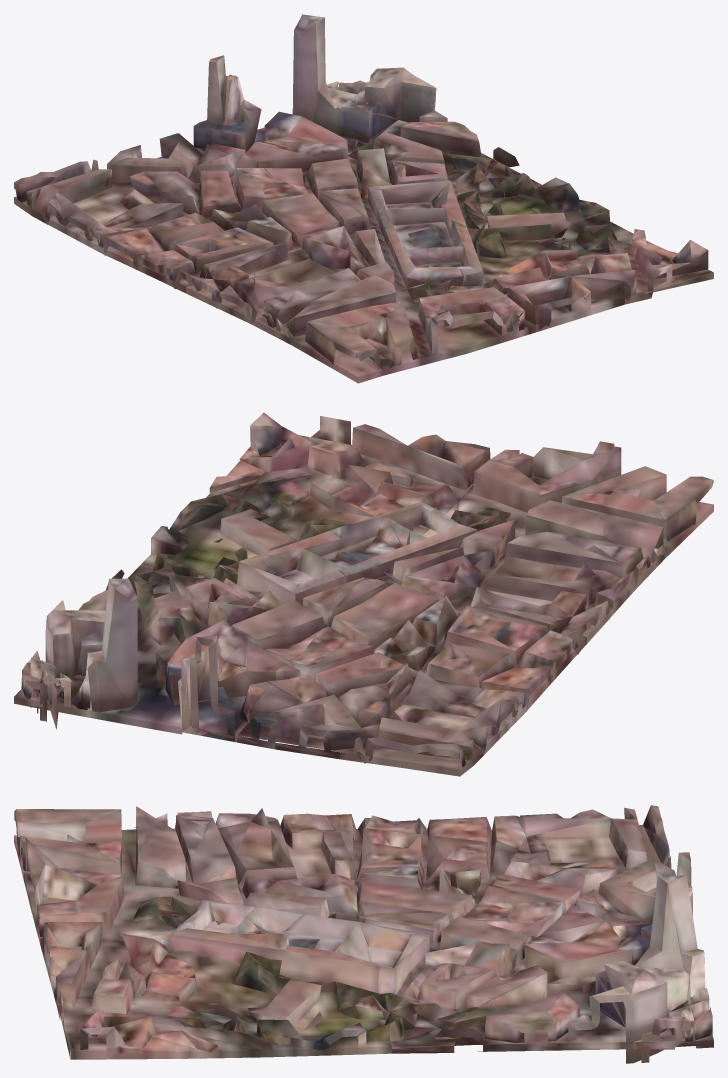
3 views of the same model, one above another, from view 1: azimuth 30°, elevation 25°; view 2: azimuth 150°, elevation 25°; view 3: azimuth 270°, elevation 25° (orthographic). The views are drawn at different scales.
Parts seen in each view (by area): view 1: Mesh_0; view 2: Mesh_0; view 3: Mesh_0.
Part boxes in pixels (x1,y1,x2,y2): Mesh_0: (14, 14, 713, 383); Mesh_0: (14, 412, 713, 776); Mesh_0: (14, 805, 713, 1063).
Bounding box in the file's own units: 532 × 153 × 659.
Materials: 2 (2 with a texture image).
